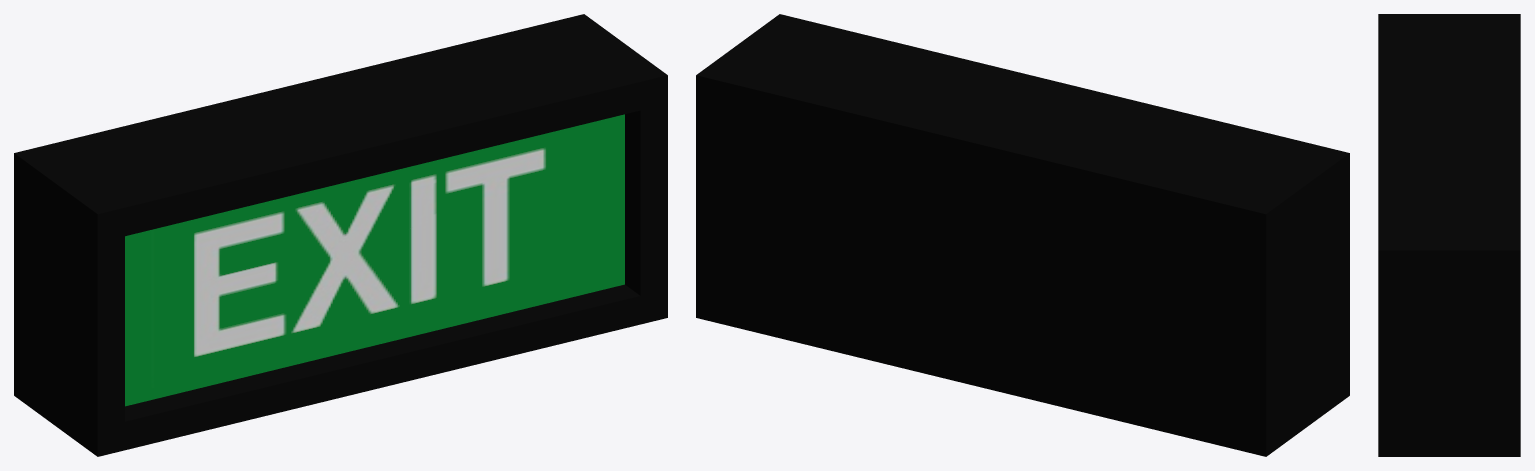
The model's file is Exit.FBX.
3 views of the same model, side by side, from view 1: azimuth 30°, elevation 25°; view 2: azimuth 150°, elevation 25°; view 3: azimuth 270°, elevation 25° (orthographic). The views are drawn at different scales.
Parts seen in each view (by area): view 1: exit; view 2: exit; view 3: exit.
Boxes of the visible parts, x1,y1,x2,y2 form: exit: (14, 14, 667, 456); exit: (696, 14, 1349, 456); exit: (1378, 14, 1520, 456).
Size of the model in its own units: 23.09 by 5.87 by 9.39.
Materials: 1 (1 with a texture image).
